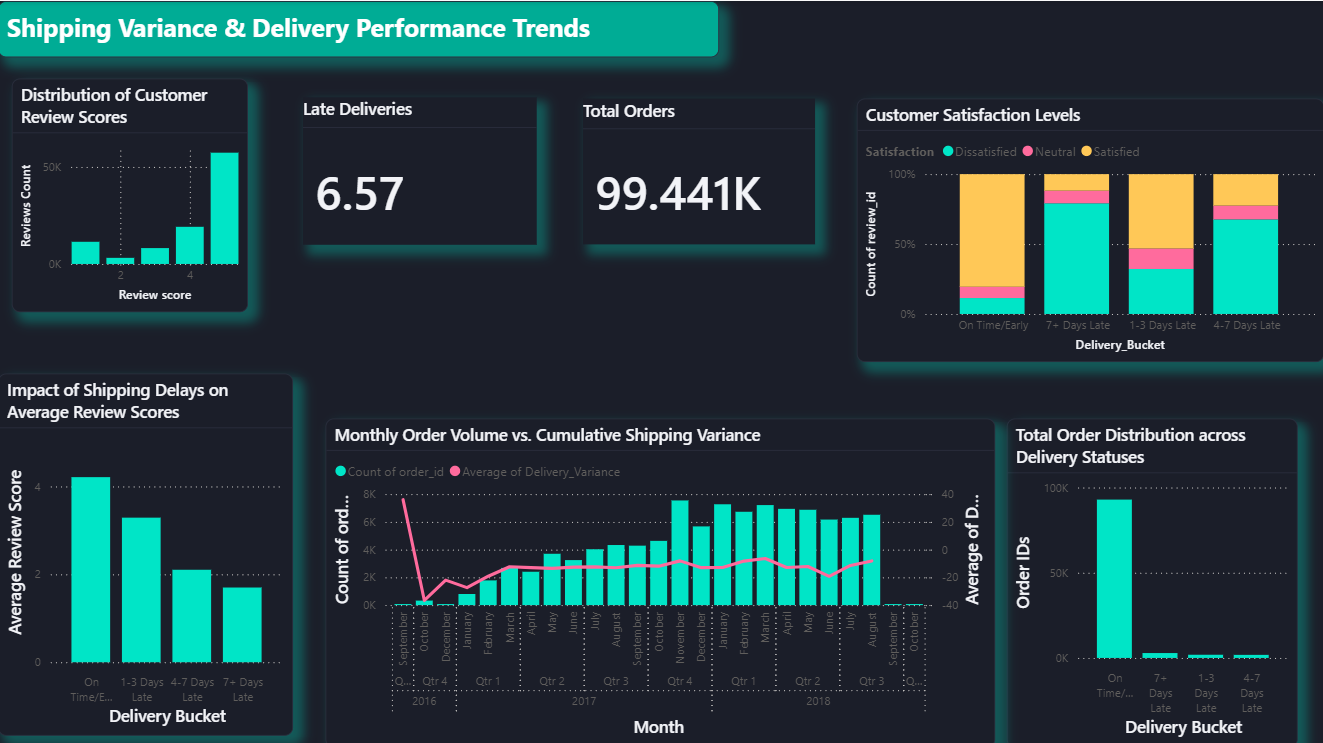

This screenshot's page, from the dashboard's own definition file:
{"tool":"powerbi","page":{"name":"Variance","canvas":[1280,720],"ordinal":1},"visuals":[{"type":"clusteredColumnChart","title":"Distribution of Customer Review Scores","fields":{"Category":["reviews_cleaned.review_score"],"Y":["CountNonNull(reviews_cleaned.review_score)"]},"box":[13.3,74.8,228,225.6],"z":1000},{"type":"clusteredColumnChart","title":"Impact of Shipping Delays on Average Review Scores","fields":{"Category":["orders_cleaned.Delivery_Bucket"],"Y":["Avg(reviews_cleaned.review_score)"]},"box":[0,359.5,284.7,349.9],"z":2000},{"type":"cardVisual","title":"Late Deliveries","fields":{"Data":["orders_cleaned.Late Deliveries %"]},"box":[294.4,92.9,225.6,142.4],"z":3000},{"type":"clusteredColumnChart","title":"Total Order Distribution across Delivery Statuses","fields":{"Category":["orders_cleaned.Delivery_Bucket"],"Y":["CountNonNull(orders_cleaned.order_id)"]},"box":[973.6,403,281.1,317.3],"z":4000},{"type":"hundredPercentStackedColumnChart","title":"Customer Satisfaction Levels","fields":{"Category":["orders_cleaned.Delivery_Bucket"],"Series":["reviews_cleaned.Satisfaction"],"Y":["CountNonNull(reviews_cleaned.review_id)"]},"box":[828.8,94.1,451.2,254.6],"z":5000},{"type":"lineClusteredColumnComboChart","title":"Monthly Order Volume vs. Cumulative Shipping Variance","fields":{"Y":["CountNonNull(orders_cleaned.order_id)"],"Y2":["Avg(orders_cleaned.Delivery_Variance)"],"Category":["orders_cleaned.pur_date.Variation.Date Hierarchy.Year","orders_cleaned.pur_date.Variation.Date Hierarchy.Quarter","orders_cleaned.pur_date.Variation.Date Hierarchy.Month","orders_cleaned.pur_date.Variation.Date Hierarchy.Day"]},"box":[316.1,403,646.7,317.3],"z":6000},{"type":"cardVisual","title":"Total Orders","fields":{"Data":["Count(orders_cleaned.order_id)"]},"box":[564.6,94.1,224.4,141.2],"z":7000},{"type":"textbox","title":"Product Portfolio Optimization & Revenue Contribution","box":[0,0,696.1,54.3],"z":8000}]}

Visuals, with their boxes in screenshot pixels (x1, y1, x2, y2), scaled from the page's 1280x720 canvas onto the 1323x743 screenshot:
"Distribution of Customer Review Scores" clusteredColumnChart: bbox=(14, 77, 249, 310)
"Impact of Shipping Delays on Average Review Scores" clusteredColumnChart: bbox=(0, 371, 294, 732)
"Late Deliveries" cardVisual: bbox=(304, 96, 537, 243)
"Total Order Distribution across Delivery Statuses" clusteredColumnChart: bbox=(1006, 416, 1297, 742)
"Customer Satisfaction Levels" hundredPercentStackedColumnChart: bbox=(857, 97, 1322, 360)
"Monthly Order Volume vs. Cumulative Shipping Variance" lineClusteredColumnComboChart: bbox=(327, 416, 995, 742)
"Total Orders" cardVisual: bbox=(584, 97, 816, 243)
"Product Portfolio Optimization & Revenue Contribution" textbox: bbox=(0, 0, 719, 56)
